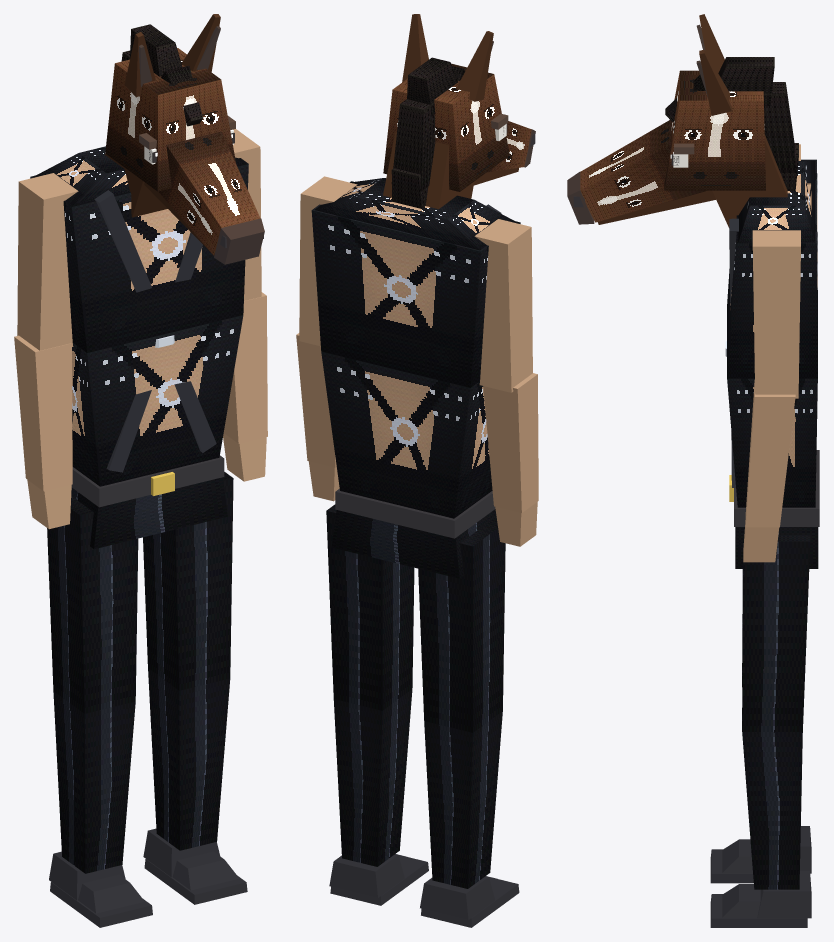
The model's file is npc_herd.glb.
3 views of the same model, side by side, from view 1: azimuth 30°, elevation 25°; view 2: azimuth 150°, elevation 25°; view 3: azimuth 270°, elevation 25° (orthographic). The views are drawn at different scales.
Parts seen in each view (by area): view 1: body, legL, legR, head, armL, armR; view 2: body, legL, legR, head, armL, armR; view 3: head, legR, body, armR, legL.
Part boxes in pixels (x1,y1,x2,y2): body: [30, 146, 248, 549]; legL: [47, 496, 152, 927]; legR: [143, 472, 247, 904]; head: [105, 14, 264, 264]; armL: [14, 173, 78, 529]; armR: [223, 129, 267, 481]; body: [311, 178, 520, 578]; legL: [418, 519, 519, 927]; legR: [326, 504, 428, 905]; head: [383, 14, 535, 209]; armL: [474, 219, 538, 546]; armR: [296, 176, 357, 501]; head: [567, 14, 798, 227]; legR: [710, 535, 811, 927]; body: [725, 159, 819, 568]; armR: [743, 230, 800, 562]; legL: [710, 569, 811, 883].
Bounding box in the file's own units: 0.5869 × 2.15 × 0.5723.
Materials: 19 (4 with a texture image).
